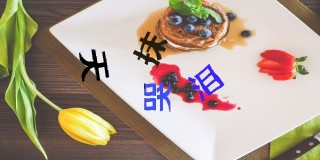哭: (143, 82, 172, 112)
天: (79, 49, 110, 82)
抹: (133, 31, 167, 66)
泪: (187, 64, 225, 102)
